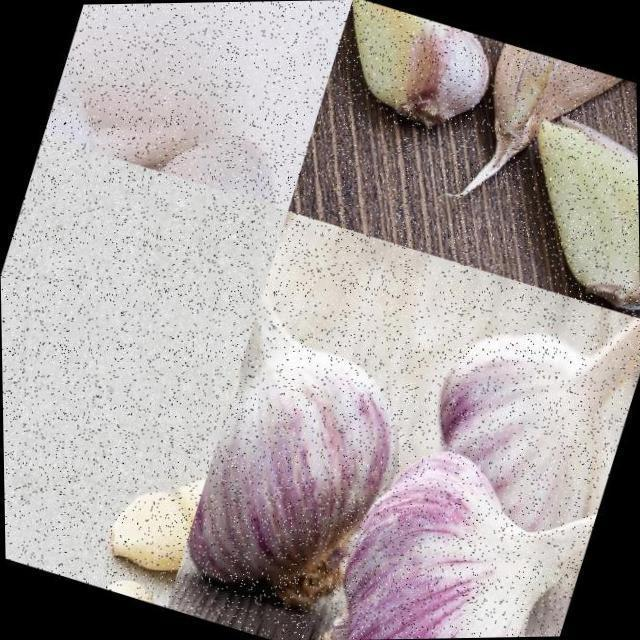garlic: (166, 252, 460, 640), (400, 265, 640, 565), (308, 407, 610, 640), (492, 112, 640, 323), (75, 81, 306, 213), (321, 0, 503, 144), (41, 36, 204, 177), (479, 41, 636, 170), (93, 444, 209, 588)
